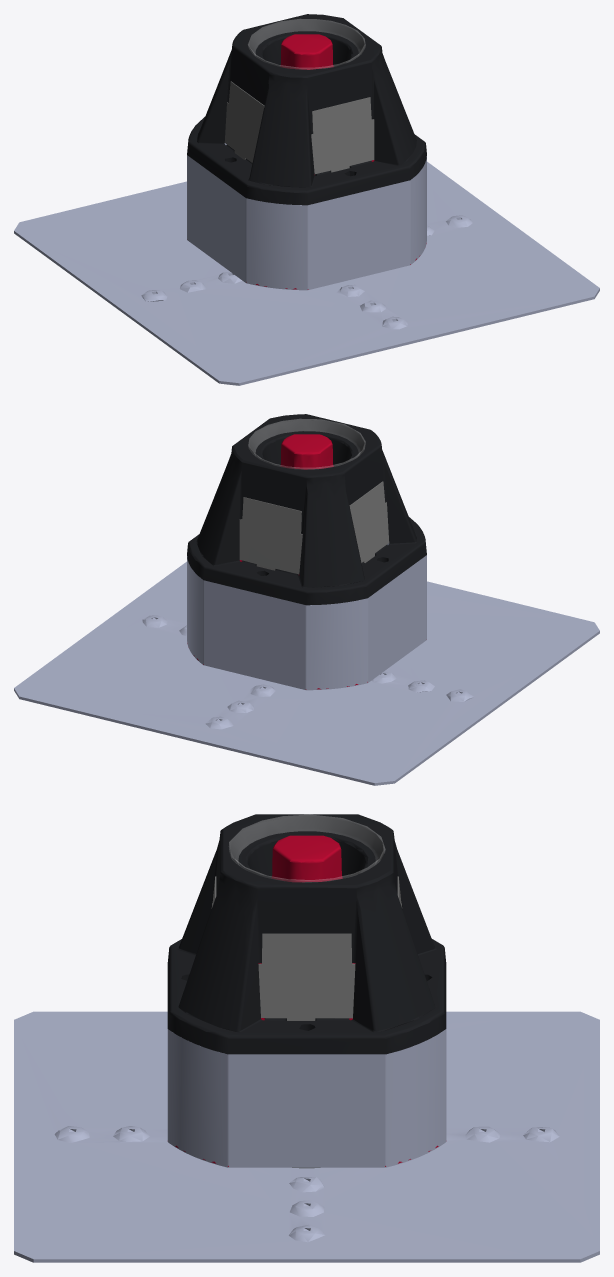
File: field.glb
3 views of the same model, one above another, from view 1: azimuth 30°, elevation 25°; view 2: azimuth 150°, elevation 25°; view 3: azimuth 270°, elevation 25° (orthographic). The views are drawn at different scales.
Visible parts, largest first — view 1: field_goal_red, field_goal_short_neutral, field_cups, field_pins; view 2: field_goal_red, field_goal_short_neutral, field_cups, field_pins; view 3: field_goal_red, field_goal_short_neutral, field_cups, field_pins.
Boxes of the visible parts, <box> form: field_goal_red: <box>14,160,599,385</box>; field_goal_short_neutral: <box>187,14,426,290</box>; field_cups: <box>248,19,365,69</box>; field_pins: <box>280,34,333,69</box>; field_goal_red: <box>14,560,599,785</box>; field_goal_short_neutral: <box>187,414,426,690</box>; field_cups: <box>248,419,365,469</box>; field_pins: <box>280,434,333,469</box>; field_goal_red: <box>14,1011,599,1262</box>; field_goal_short_neutral: <box>167,814,446,1167</box>; field_cups: <box>229,815,385,1168</box>; field_pins: <box>258,835,355,963</box>.
Bounding box in the file's own units: 0.3 × 0.1653 × 0.3.
